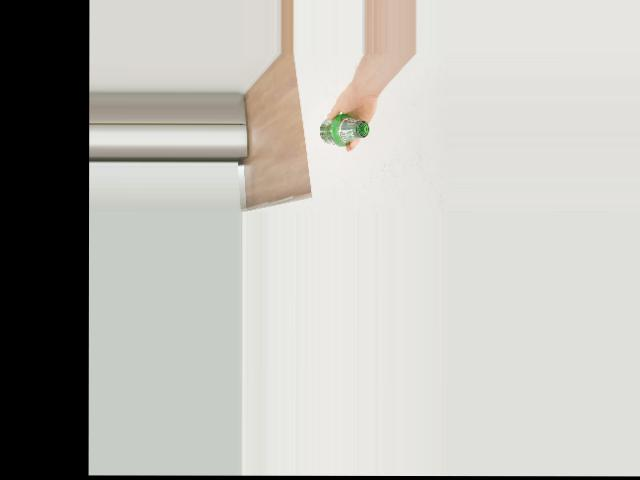beer: (319, 113, 369, 146)
